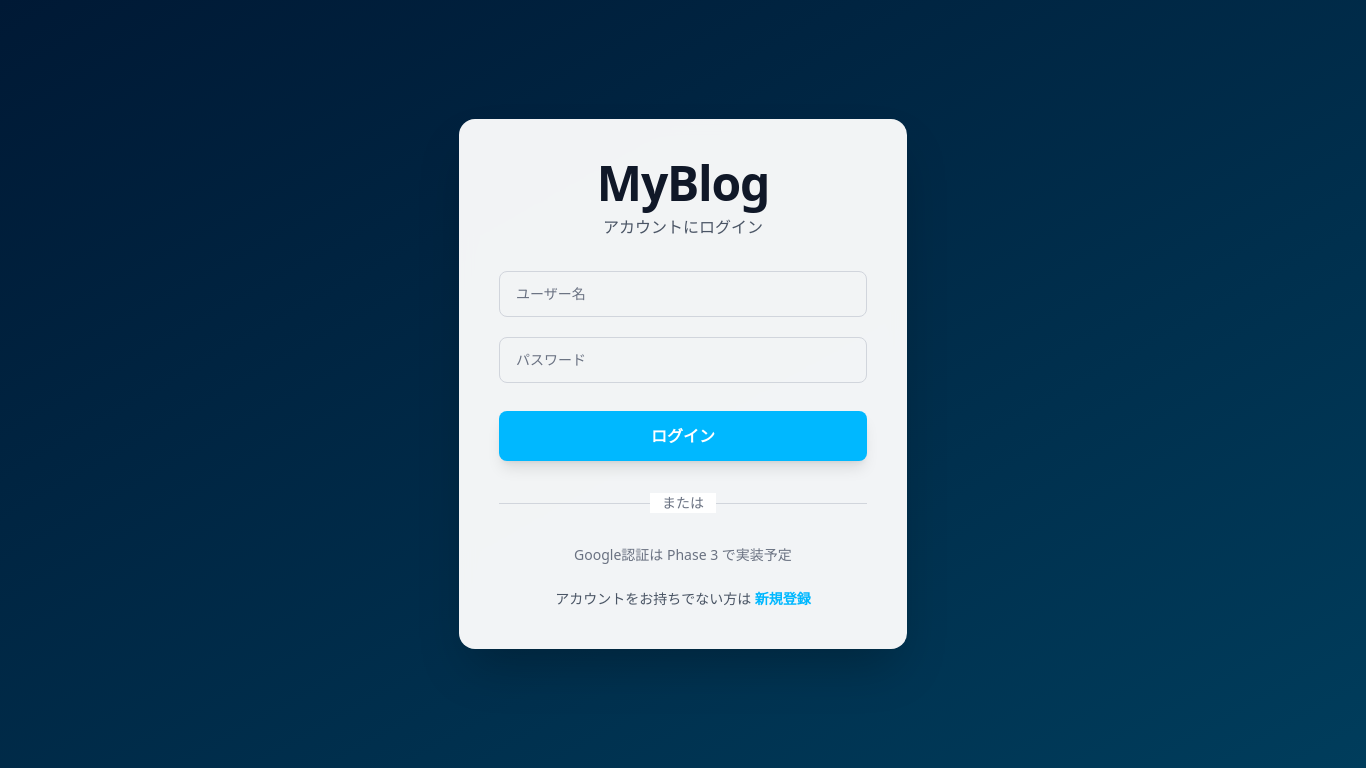
it: LoginPage › ログイン機能 › ログインに失敗するとエラーメッセージが表示される
Type "wronguser" into the field with placeholder "ユーザー名" at (683, 294), box [499,271,867,317]
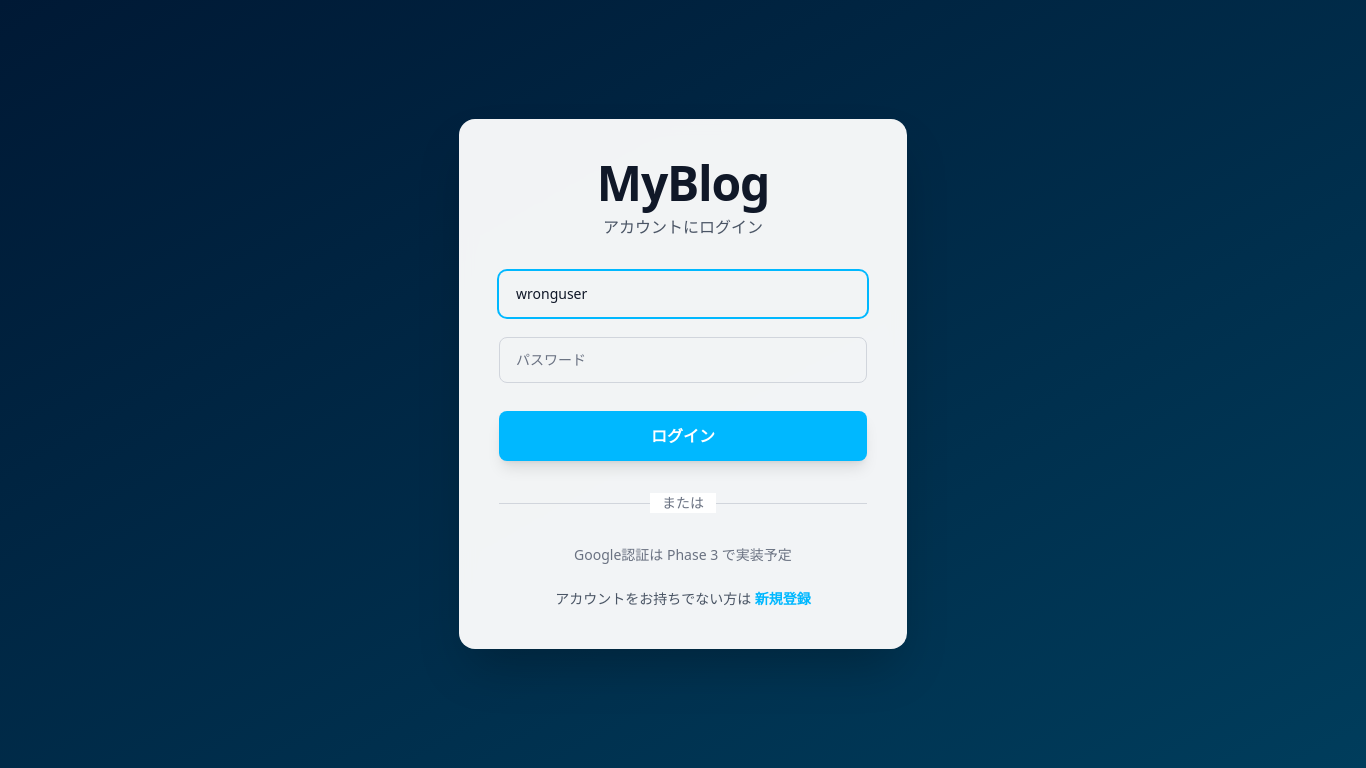
Type "wrongpassword" into the password field with placeholder "パスワード" at (683, 360), box [499,337,867,383]
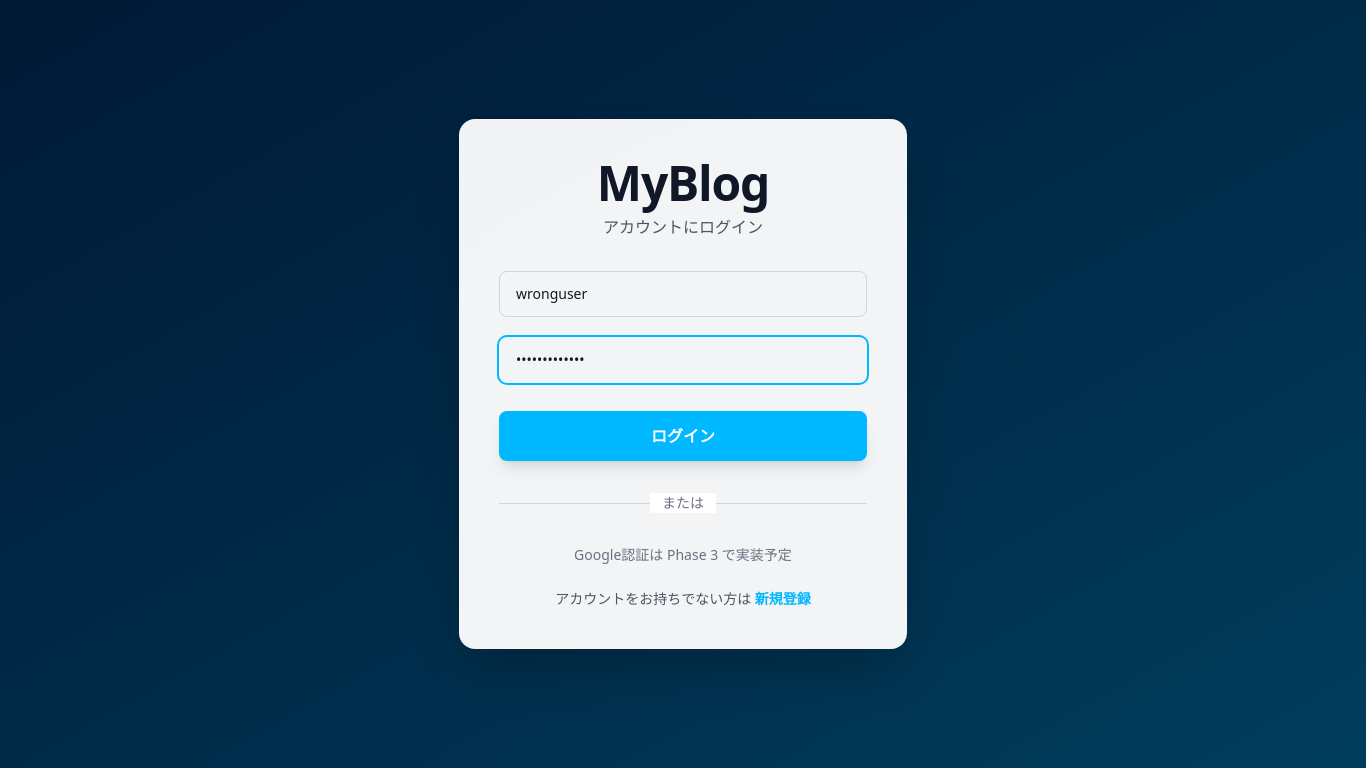
Click the button "ログイン" at (683, 436), box [499,411,867,461]
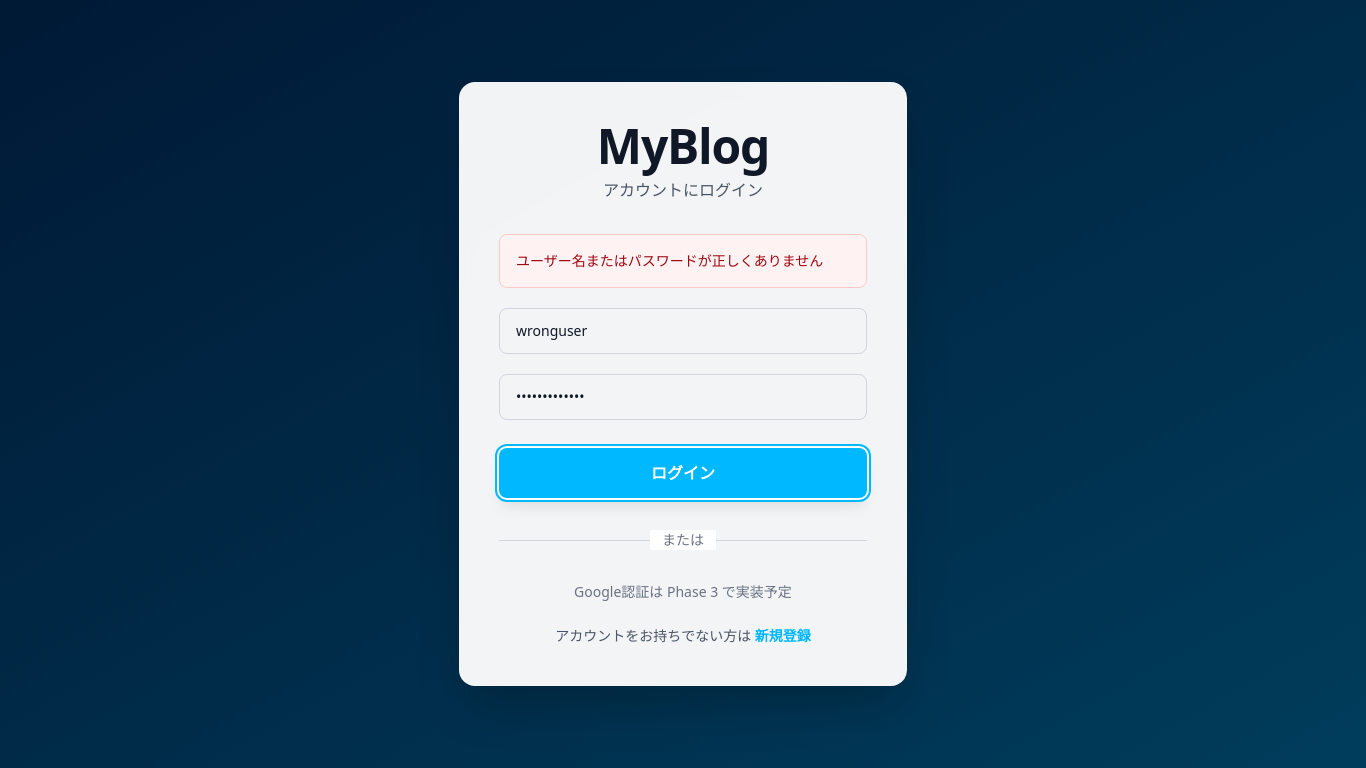
Check: the text "ユーザー名またはパスワードが正しくありません" is shown, box [516,251,850,271]
